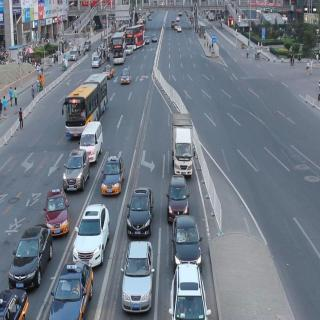BigCar: (64, 70, 112, 139), (169, 108, 198, 178), (111, 34, 127, 66), (126, 25, 145, 48)
Car: (50, 255, 94, 320), (8, 223, 53, 284), (71, 198, 109, 265), (121, 239, 153, 318), (169, 265, 210, 320), (170, 213, 205, 274), (124, 183, 157, 242), (44, 186, 70, 236), (166, 172, 191, 223), (62, 147, 88, 196), (101, 150, 125, 202), (0, 284, 29, 319), (79, 122, 102, 165), (102, 64, 115, 82), (120, 68, 133, 84), (91, 54, 102, 72), (126, 44, 132, 56), (152, 34, 158, 45), (178, 26, 182, 34)
